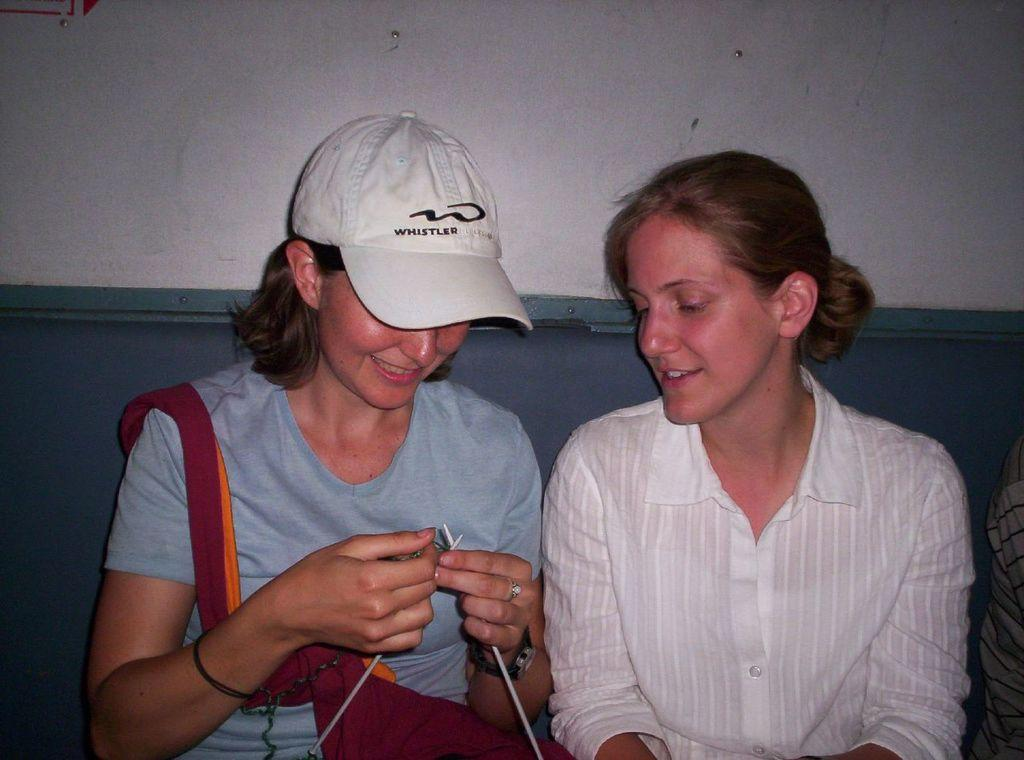Hat: (292, 108, 534, 328)
